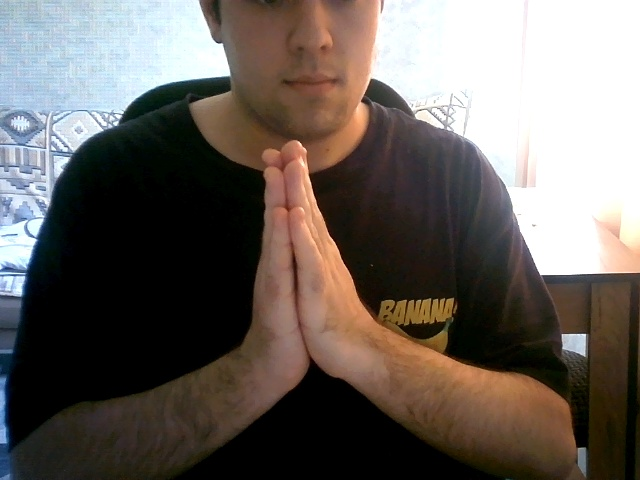please: (220, 133, 413, 431)
